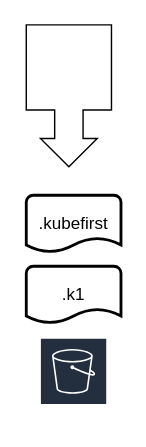
Image size: 146x447. Some labels were removed from this diagram. Here are the shapes that lost their labels. From the top down, the centre of each, then its label:
At (68,95): "init".
At (73,379): "4x".
